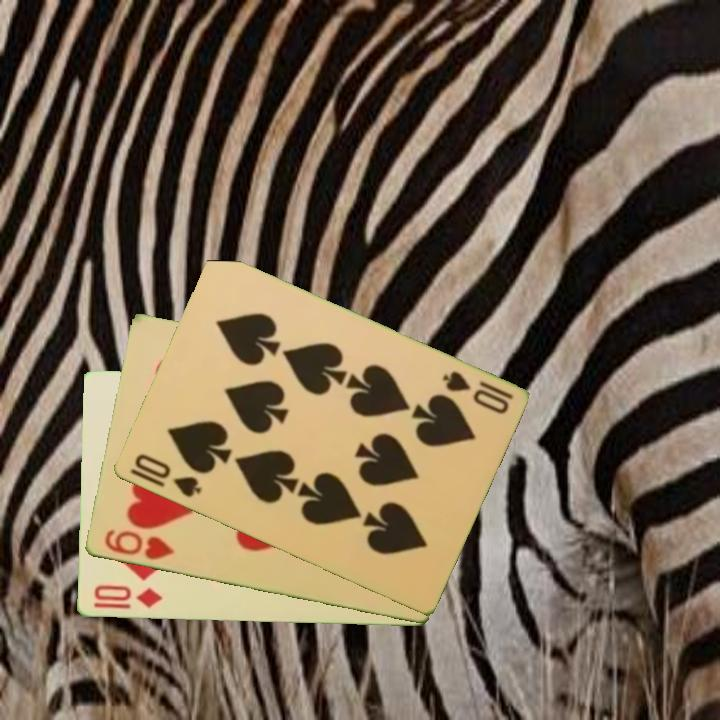10d: (90, 581, 165, 611)
10s: (438, 368, 516, 418), (130, 450, 204, 501)
6h: (100, 526, 177, 564)
